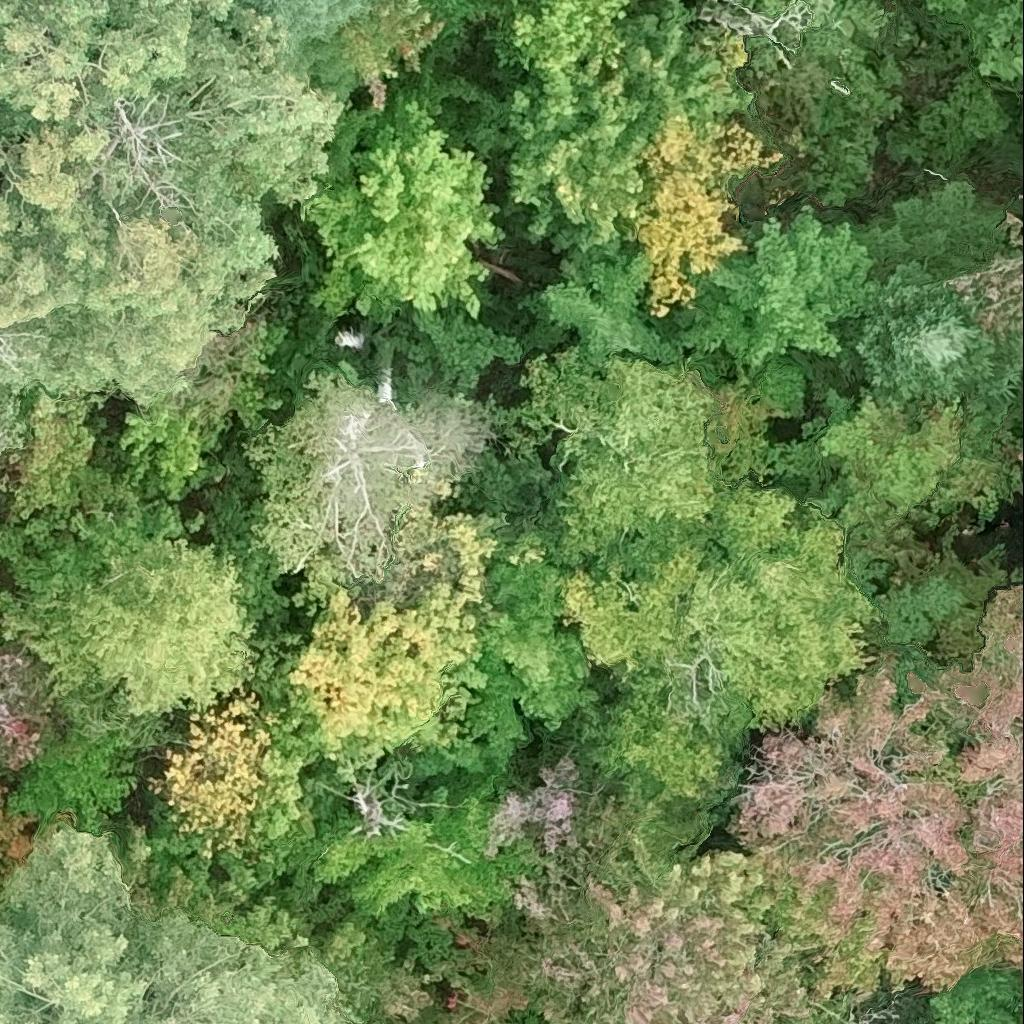crown: (0, 0, 344, 446), (562, 479, 887, 812), (450, 799, 889, 1023), (730, 661, 1001, 996), (482, 345, 801, 567), (0, 825, 356, 1023), (0, 506, 274, 731), (243, 371, 505, 604), (511, 109, 784, 314), (256, 555, 488, 783), (288, 88, 499, 324), (840, 178, 1023, 426), (0, 103, 198, 326), (0, 639, 165, 905), (478, 0, 759, 147), (458, 517, 605, 765), (930, 584, 1023, 973), (312, 773, 551, 921), (690, 207, 880, 384), (148, 692, 312, 888), (0, 0, 193, 121), (121, 386, 225, 496), (950, 212, 1023, 333), (243, 0, 372, 53), (699, 0, 829, 52), (968, 0, 1023, 79), (927, 0, 967, 11), (0, 436, 11, 460), (403, 0, 420, 5), (1020, 193, 1023, 200)
